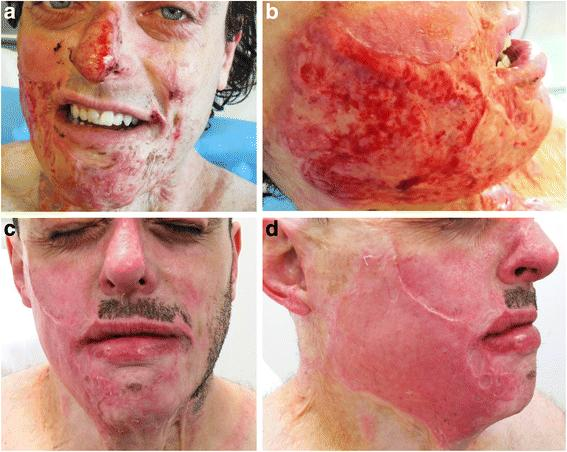burned-skin: (276, 10, 479, 203), (320, 224, 479, 426), (65, 355, 208, 422), (22, 132, 144, 206), (147, 50, 212, 159), (20, 256, 86, 357), (487, 87, 551, 174), (86, 10, 137, 94), (489, 221, 550, 284), (97, 236, 160, 284), (491, 364, 538, 426)
